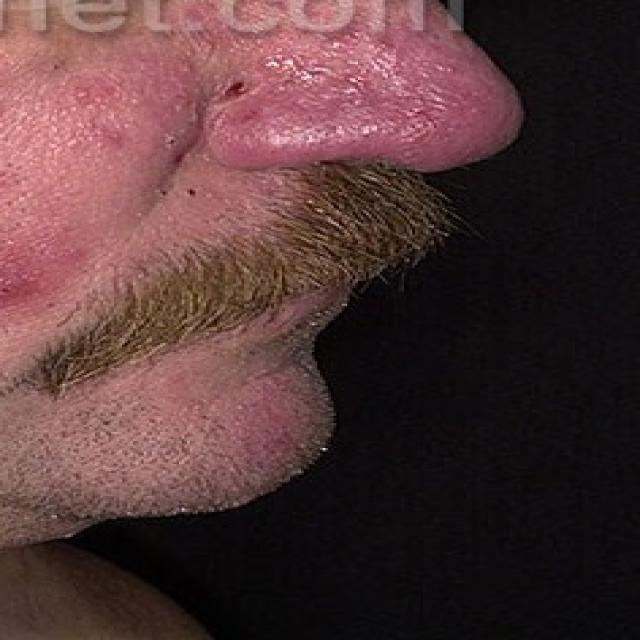Rosacea: (66, 42, 518, 159)
